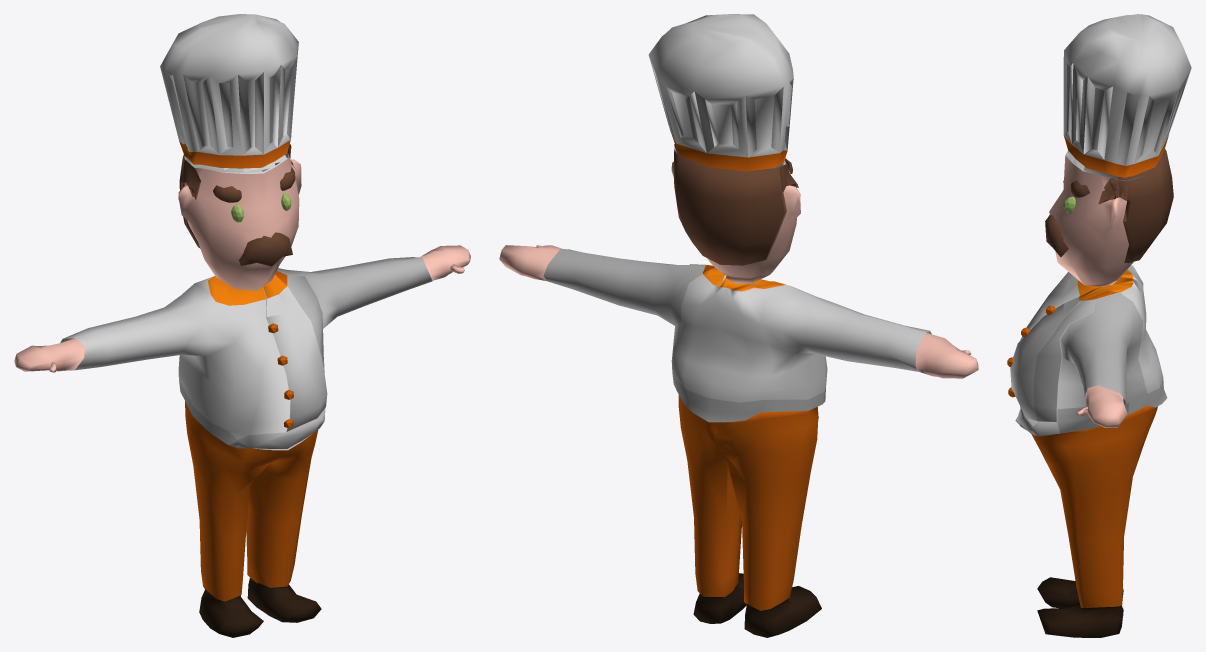
The picture shows the model from 3 angles, left to right: view 1: azimuth 30°, elevation 25°; view 2: azimuth 150°, elevation 25°; view 3: azimuth 270°, elevation 25°; orthographic projection. The views are drawn at different scales.
Parts seen in each view (by area): view 1: saç; view 2: saç; view 3: saç.
Part boxes in pixels (x1,y1,x2,y2): saç: (14, 14, 470, 637); saç: (499, 14, 978, 637); saç: (1007, 14, 1191, 637).
Bounding box in the file's own units: 140 × 171 × 47.83.
